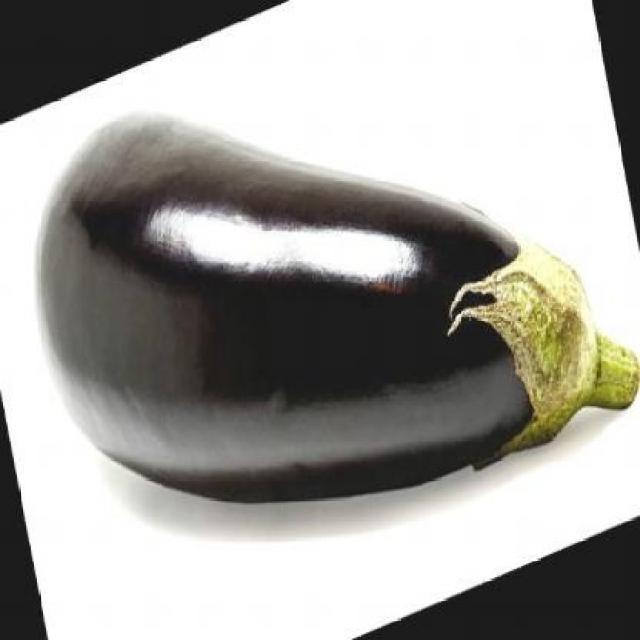eggplant: (29, 100, 640, 509)
